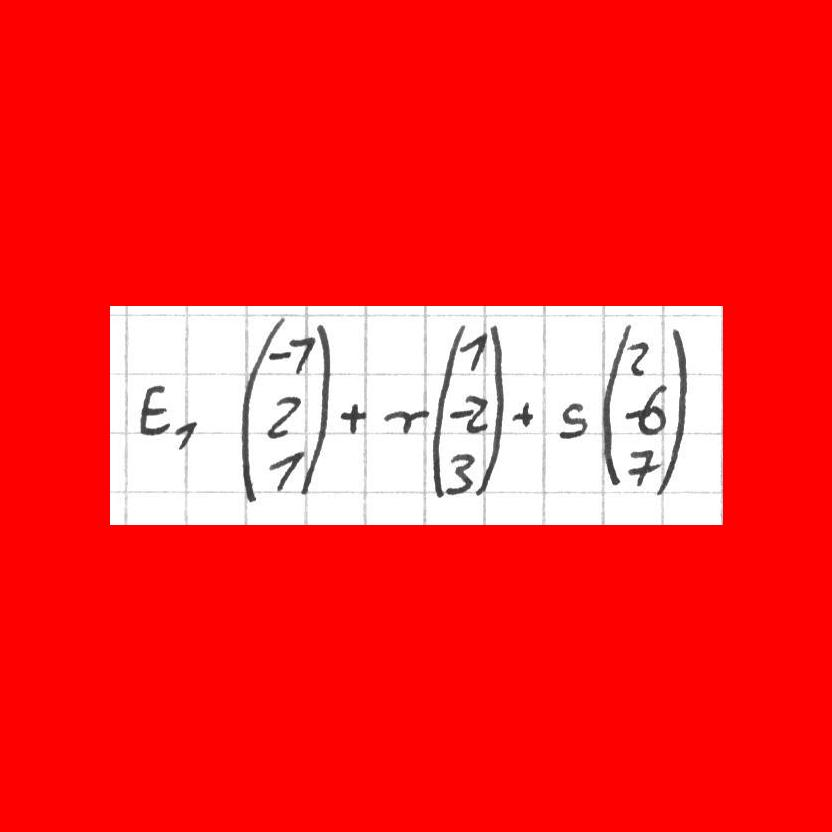Char: (429, 324, 465, 497), (301, 320, 332, 495), (662, 324, 693, 492), (477, 319, 504, 501), (600, 316, 626, 496), (238, 341, 264, 501), (631, 381, 668, 437), (136, 379, 169, 439), (265, 392, 303, 442), (460, 321, 492, 377), (268, 449, 302, 496), (443, 449, 475, 497), (385, 404, 426, 438), (557, 398, 587, 442), (626, 445, 656, 489), (460, 390, 485, 436), (338, 396, 366, 437), (288, 333, 313, 377), (171, 417, 196, 452), (629, 336, 649, 379), (513, 396, 535, 431), (266, 348, 289, 362)
